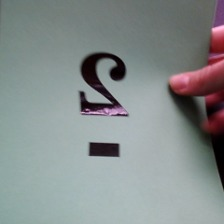green2: (72, 44, 134, 161)
